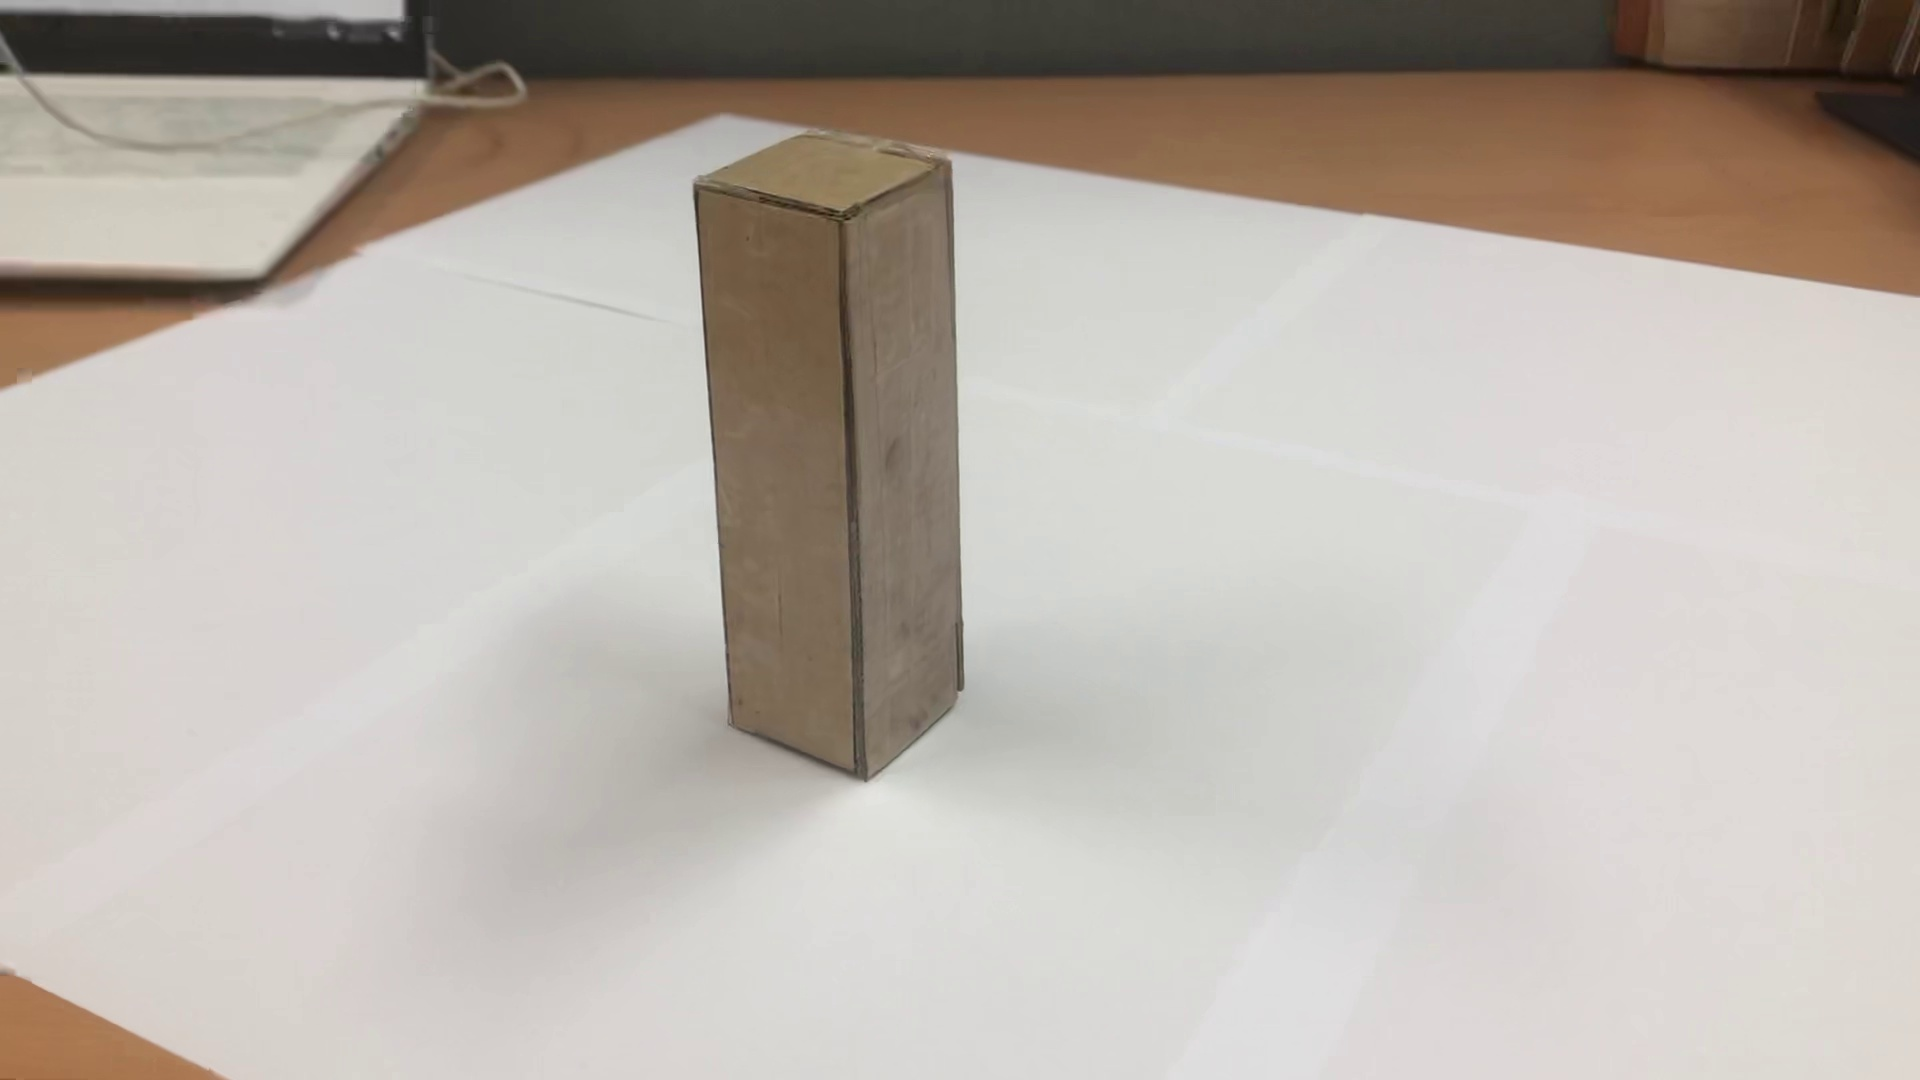box: (676, 117, 1005, 793)
